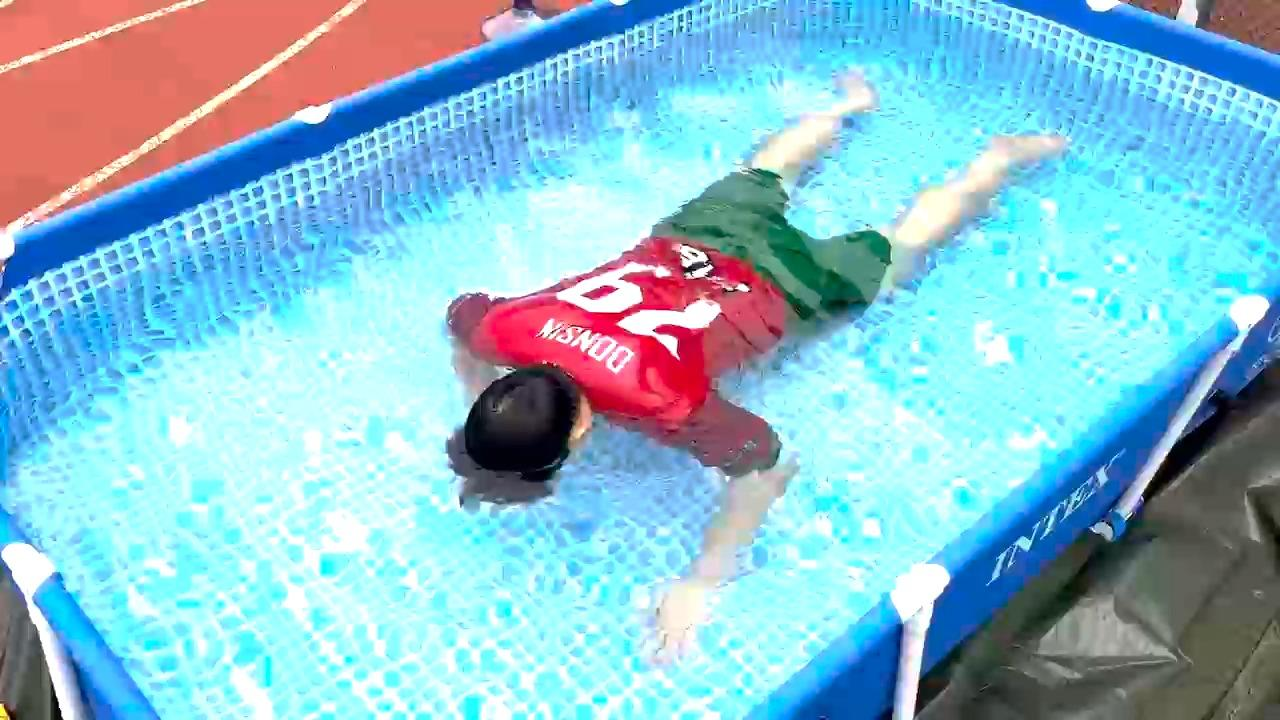Drowning: (357, 67, 1107, 648)
